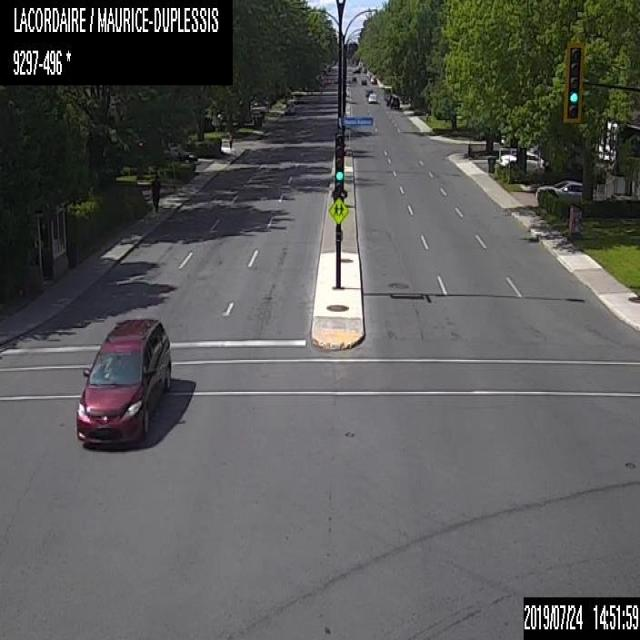pedestrian: (151, 174, 158, 210), (227, 127, 232, 149)
vehicle: (74, 315, 171, 445), (535, 178, 603, 203), (498, 148, 547, 168), (162, 146, 198, 166), (389, 95, 400, 108), (284, 100, 294, 112), (367, 91, 377, 102), (384, 86, 391, 99), (369, 74, 376, 84), (365, 86, 372, 96), (352, 64, 360, 72), (386, 95, 392, 104), (360, 76, 366, 85), (361, 64, 366, 72), (367, 73, 372, 79), (351, 75, 356, 81)
